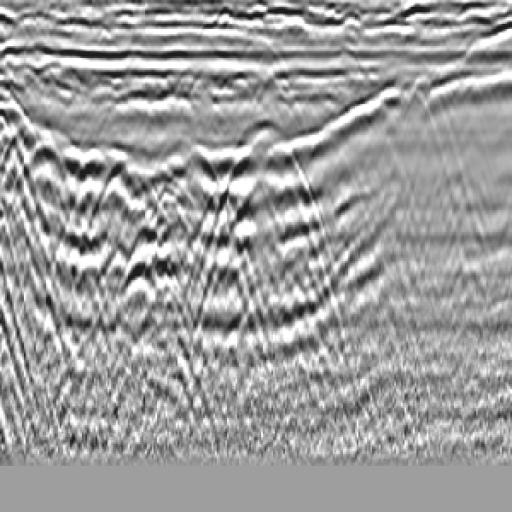metalic: (186, 115, 341, 359)
